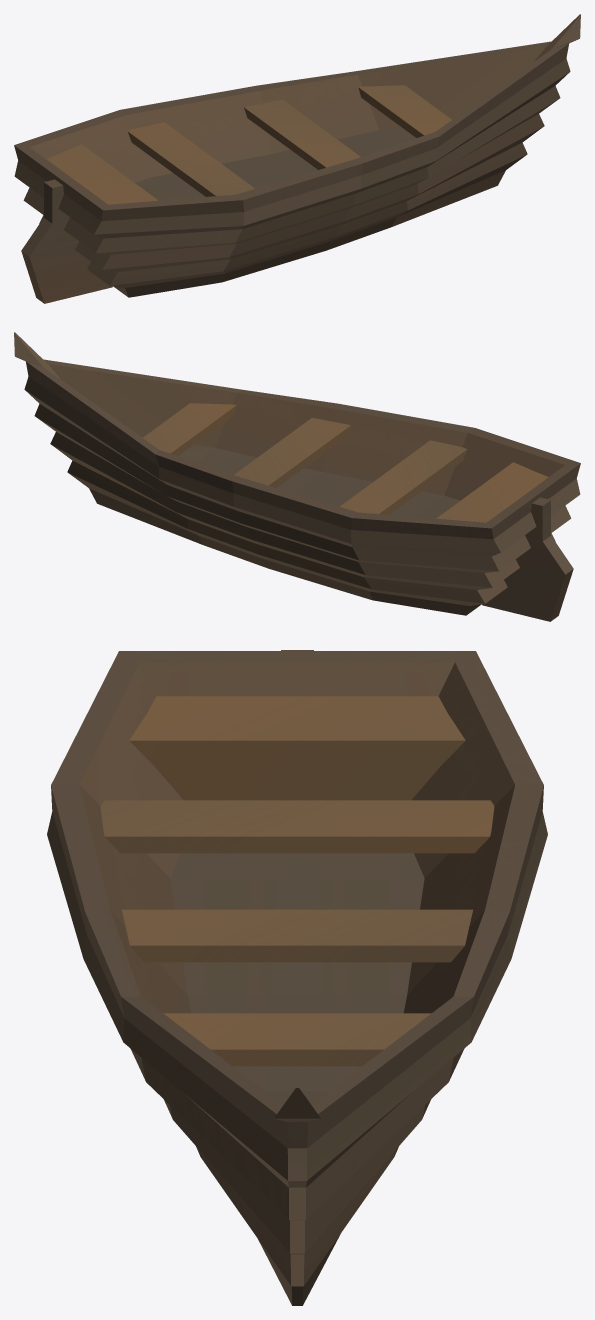
The model's file is Boat_1.fbx.
The picture shows the model from 3 angles, top to bottom: view 1: azimuth 30°, elevation 25°; view 2: azimuth 150°, elevation 25°; view 3: azimuth 270°, elevation 25°; orthographic projection. The views are drawn at different scales.
Parts seen in each view (by area): view 1: polySurface9685; view 2: polySurface9685; view 3: polySurface9685.
Boxes of the visible parts, <box> form: polySurface9685: <box>14,14,580,303</box>; polySurface9685: <box>14,332,580,621</box>; polySurface9685: <box>47,650,547,1305</box>.
Bounding box in the file's own units: 510 × 136 × 199.
